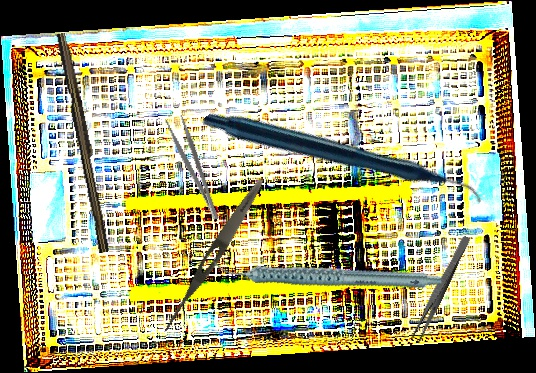Dressing Forceps: (157, 175, 269, 339), (409, 233, 472, 345), (164, 113, 222, 225)
Handpiece: (200, 14, 484, 307), (211, 214, 444, 332)
Scalpel Handle: (53, 31, 116, 254)
